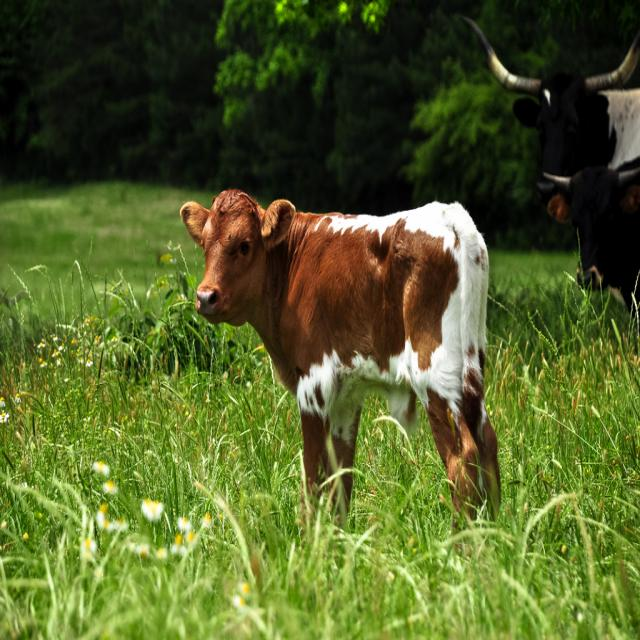Cattle: (179, 187, 502, 560), (459, 16, 640, 332)
